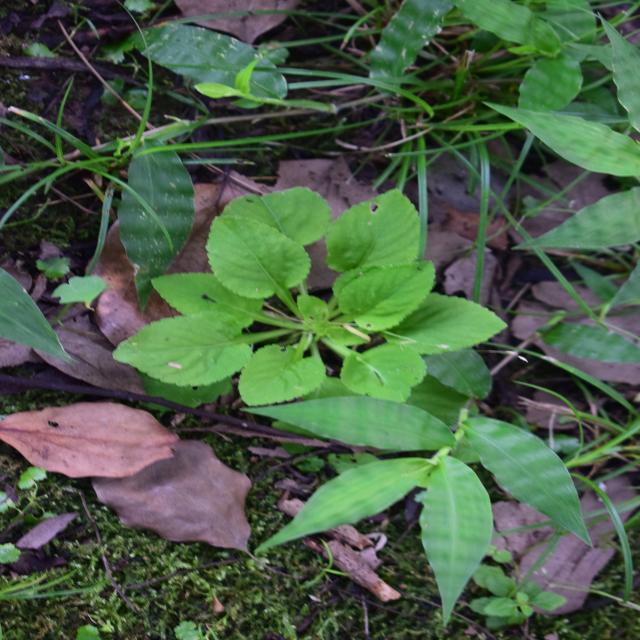Viola: (174, 163, 415, 484)
